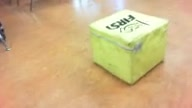cube: (88, 8, 169, 87)
